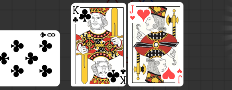8C: (38, 31, 56, 38)
JH: (175, 67, 183, 84)
